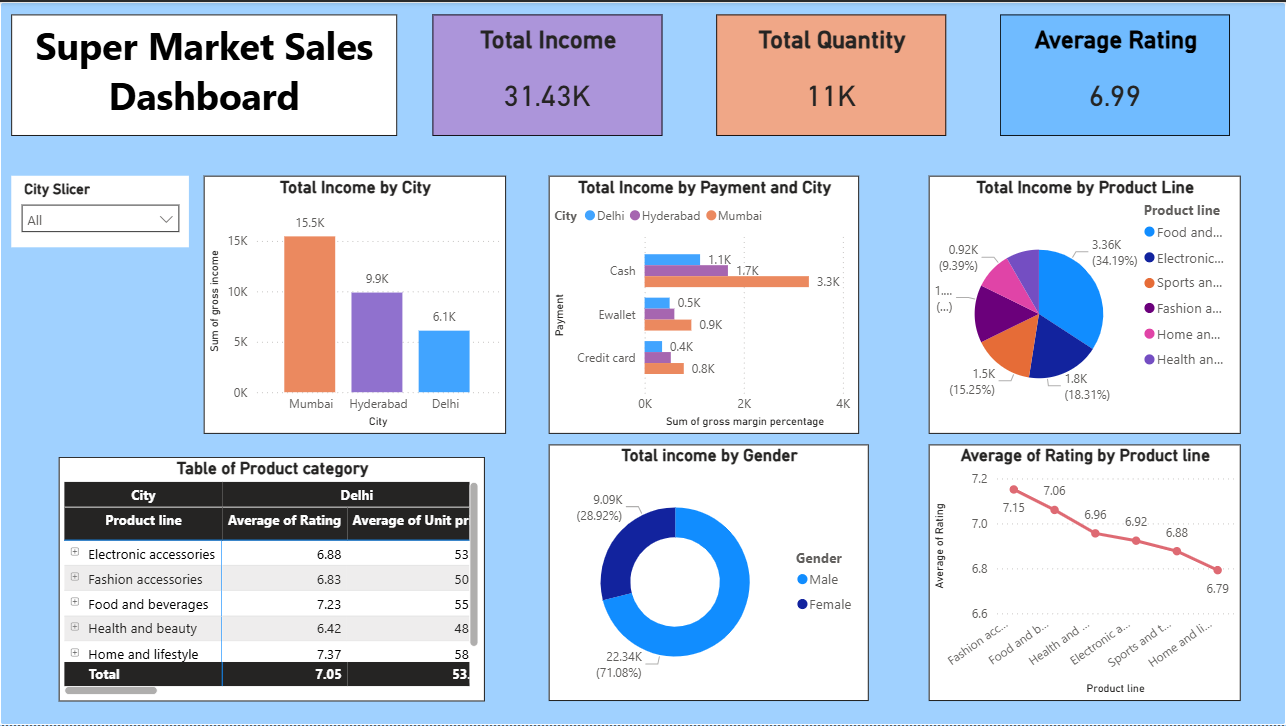

What the dashboard file says about the page in this screenshot:
{"tool":"powerbi","page":{"name":"Page 1","canvas":[1280,720],"ordinal":0},"visuals":[{"type":"textbox","box":[11,12.3,384.2,120.8],"z":0},{"type":"card","title":"Total Income","fields":{"Values":["Sum(Realmart Sales Dataset.gross income)"]},"box":[430.9,12.3,229.2,120.8],"z":1000},{"type":"card","title":"Total Quantity","fields":{"Values":["Sum(Realmart Sales Dataset.Quantity)"]},"box":[712.2,12.3,229.2,120.8],"z":2000},{"type":"card","title":"Average Rating","fields":{"Values":["Avg(Realmart Sales Dataset.Rating)"]},"box":[994.9,12.3,229.2,120.8],"z":3000},{"type":"clusteredColumnChart","title":"Total Income by City","fields":{"Category":["Realmart Sales Dataset.City"],"Y":["Sum(Realmart Sales Dataset.gross income)"]},"box":[203.1,172.9,300.5,256.6],"z":4000},{"type":"clusteredBarChart","title":"Total Income by Payment and City","fields":{"Category":["Realmart Sales Dataset.Payment"],"Y":["Sum(Realmart Sales Dataset.gross margin percentage)"],"Series":["Realmart Sales Dataset.City"]},"box":[546.1,172.9,308.7,256.6],"z":5000},{"type":"pieChart","title":"Total Income by Product Line","fields":{"Category":["Realmart Sales Dataset.Product line"],"Y":["Sum(Realmart Sales Dataset.gross margin percentage)"]},"box":[924.9,172.9,310.1,256.6],"z":6000},{"type":"lineChart","fields":{"Category":["Realmart Sales Dataset.Product line"],"Y":["Avg(Realmart Sales Dataset.Rating)"]},"box":[924.9,440.5,310.1,255.2],"z":7000},{"type":"donutChart","title":"Total income by Gender","fields":{"Category":["Realmart Sales Dataset.Gender"],"Y":["Sum(Realmart Sales Dataset.gross income)"]},"box":[546.1,440.5,318.4,255.2],"z":8000},{"type":"pivotTable","title":"Table of Product category","fields":{"Rows":["Realmart Sales Dataset.Product line","Realmart Sales Dataset.Gender"],"Values":["Avg(Realmart Sales Dataset.Rating)","Avg(Realmart Sales Dataset.Unit price)"],"Columns":["Realmart Sales Dataset.City"]},"box":[59,452.8,424,242.9],"z":9000},{"type":"slicer","fields":{"Values":["Realmart Sales Dataset.City"]},"box":[11,172.9,177,71.4],"z":10000}]}

Visuals, with their boxes in screenshot pixels (x1, y1, x2, y2), scaled from the page's 1280x720 canvas onto the 1286x726 screenshot:
textbox: l=11, t=12, r=397, b=134
"Total Income" card: l=433, t=12, r=663, b=134
"Total Quantity" card: l=716, t=12, r=946, b=134
"Average Rating" card: l=1000, t=12, r=1230, b=134
"Total Income by City" clusteredColumnChart: l=204, t=174, r=506, b=433
"Total Income by Payment and City" clusteredBarChart: l=549, t=174, r=859, b=433
"Total Income by Product Line" pieChart: l=929, t=174, r=1241, b=433
lineChart - Realmart Sales Dataset.Product line x Avg(Realmart Sales Dataset.Rating): l=929, t=444, r=1241, b=701
"Total income by Gender" donutChart: l=549, t=444, r=869, b=701
"Table of Product category" pivotTable: l=59, t=457, r=485, b=701
slicer - Realmart Sales Dataset.City: l=11, t=174, r=189, b=246
